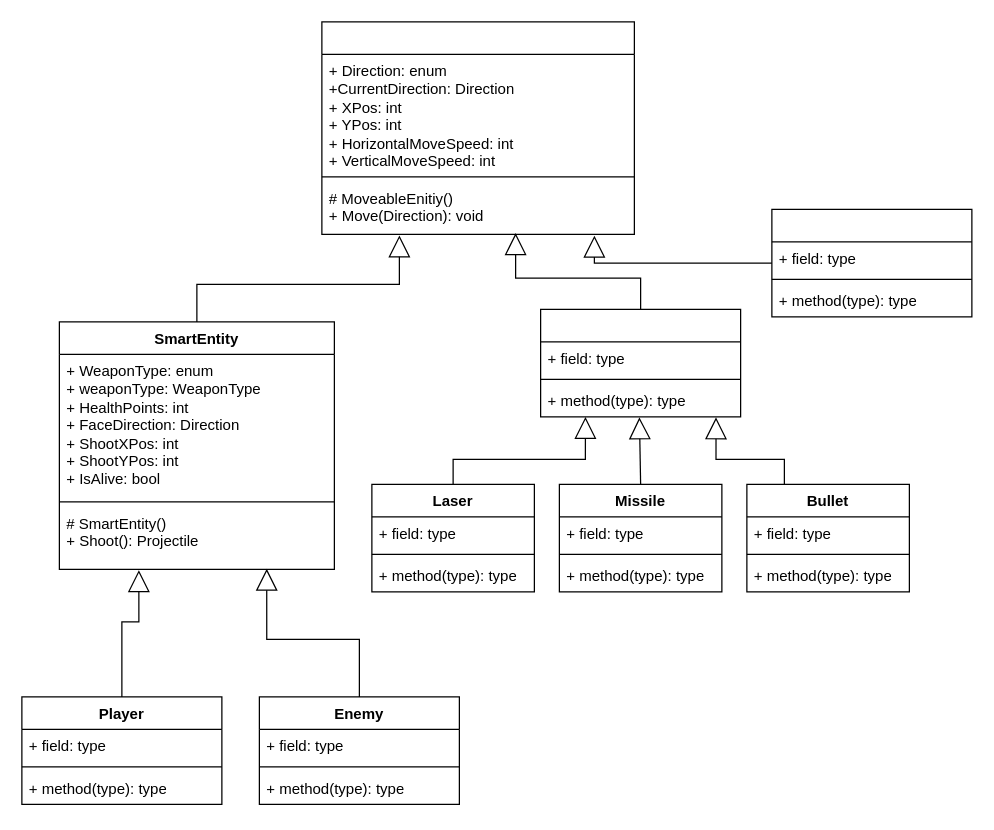
Some shapes in this 994 by 830 pixel diagram are drawn without their labels. Here are the shapes that lost their labels. From the top down, the box of each, then its label:
(321, 21, 634, 234): MoveableEntity
(771, 208, 972, 317): Drop
(539, 308, 741, 417): Projectile
